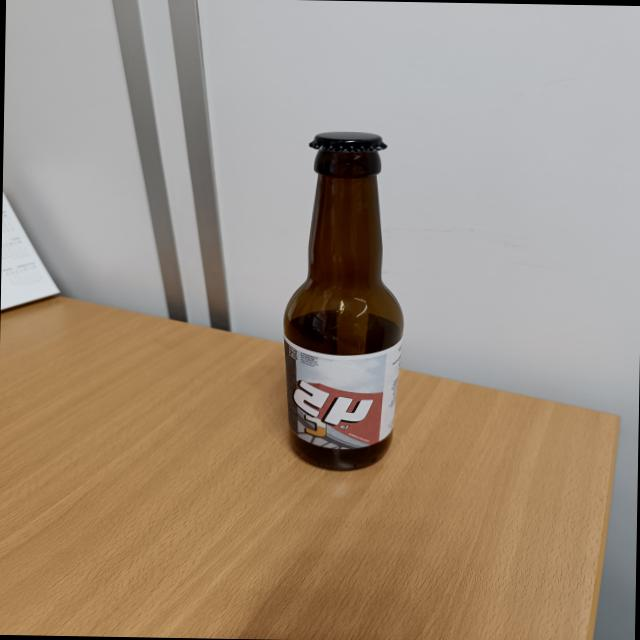Bottle: (282, 129, 409, 474)
Cap: (304, 130, 392, 156)
Label: (284, 344, 401, 448)
